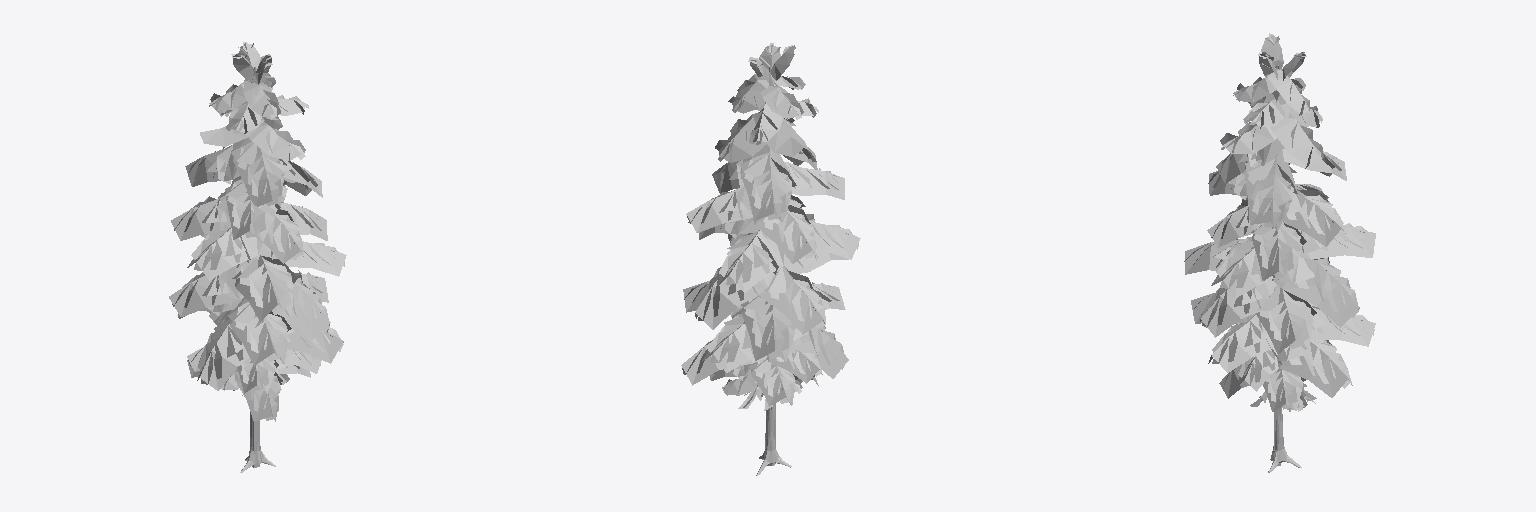
Rendered from SM_PineMedium02.obj.
3 views of the same model, side by side, from view 1: azimuth 30°, elevation 25°; view 2: azimuth 150°, elevation 25°; view 3: azimuth 270°, elevation 25° (orthographic).
Parts seen in each view (by area): view 1: SM_PineMedium02; view 2: SM_PineMedium02; view 3: SM_PineMedium02.
Boxes of the visible parts, x1,y1,x2,y2 form: SM_PineMedium02: [169, 42, 346, 472]; SM_PineMedium02: [681, 43, 860, 475]; SM_PineMedium02: [1184, 33, 1375, 472].
Bounding box in the file's own units: 183 × 483 × 199.